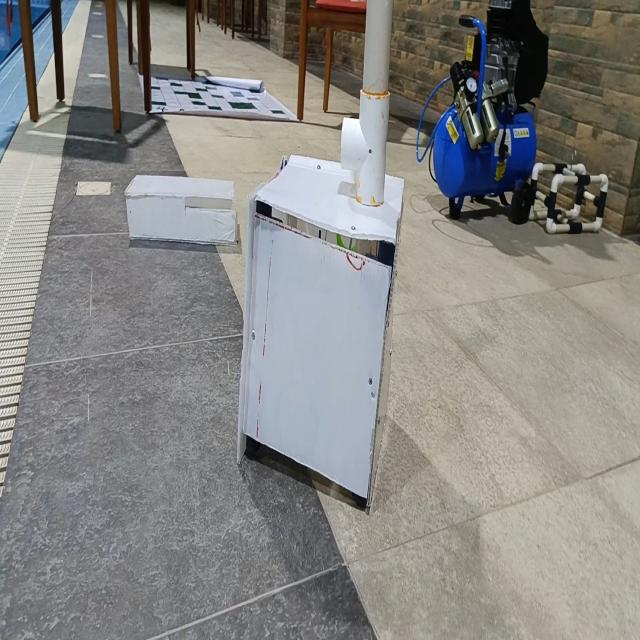Cube: (238, 144, 411, 506)
Cuboid: (124, 172, 236, 245)
